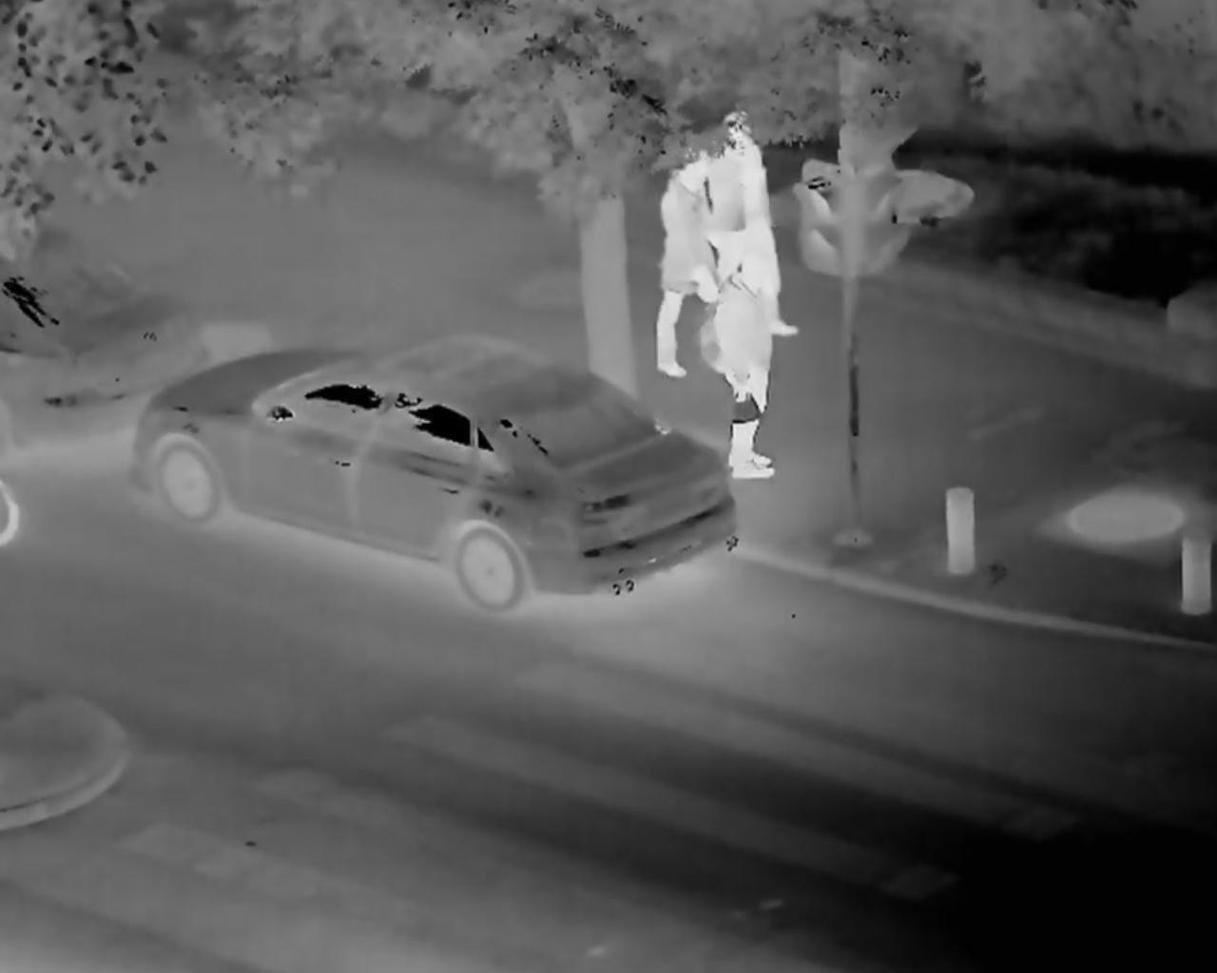person: (704, 91, 792, 338), (711, 250, 791, 483), (652, 150, 716, 391)
